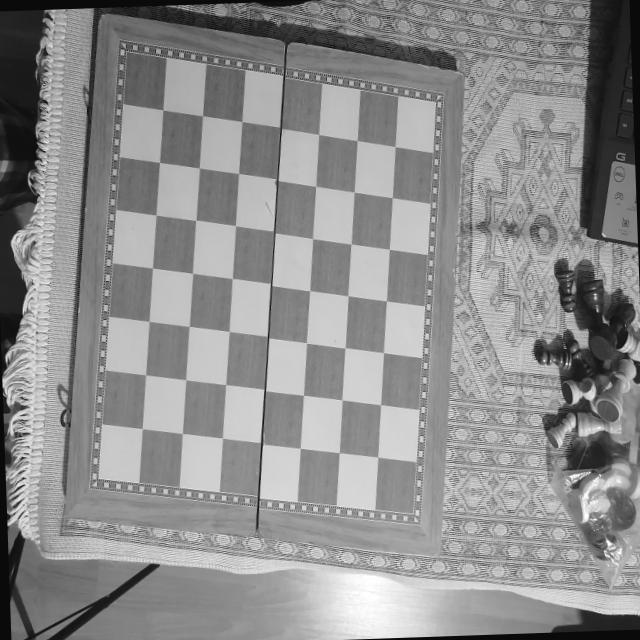corners: (455, 58, 472, 91), (59, 498, 74, 530), (432, 542, 449, 564), (92, 8, 110, 27)
